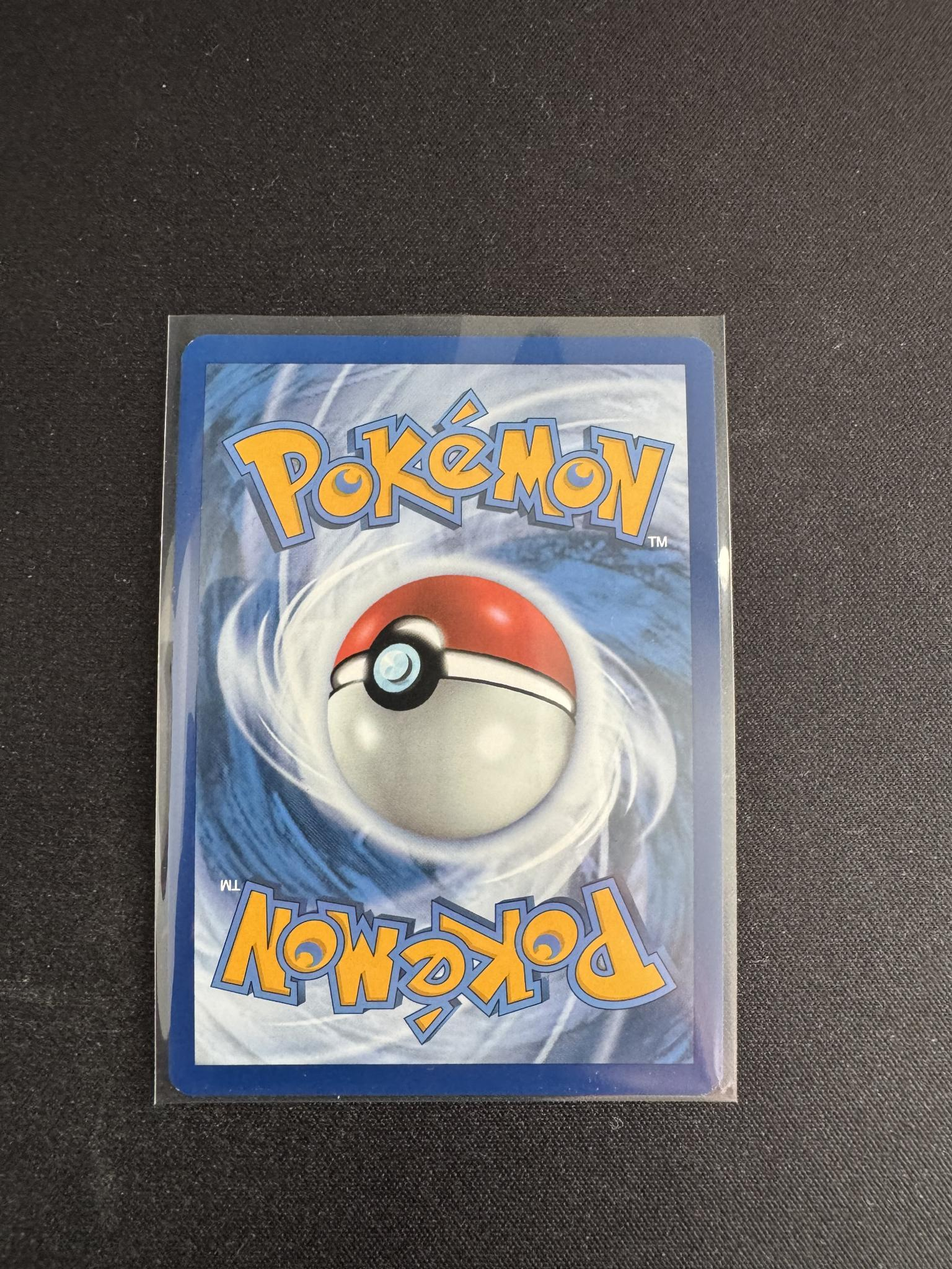card-2UtV: (167, 334, 723, 1096)
